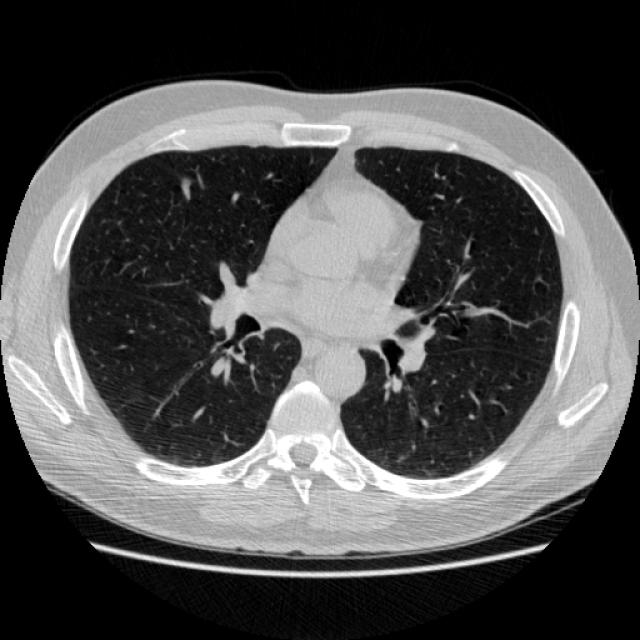nodule: (170, 172, 200, 202)
